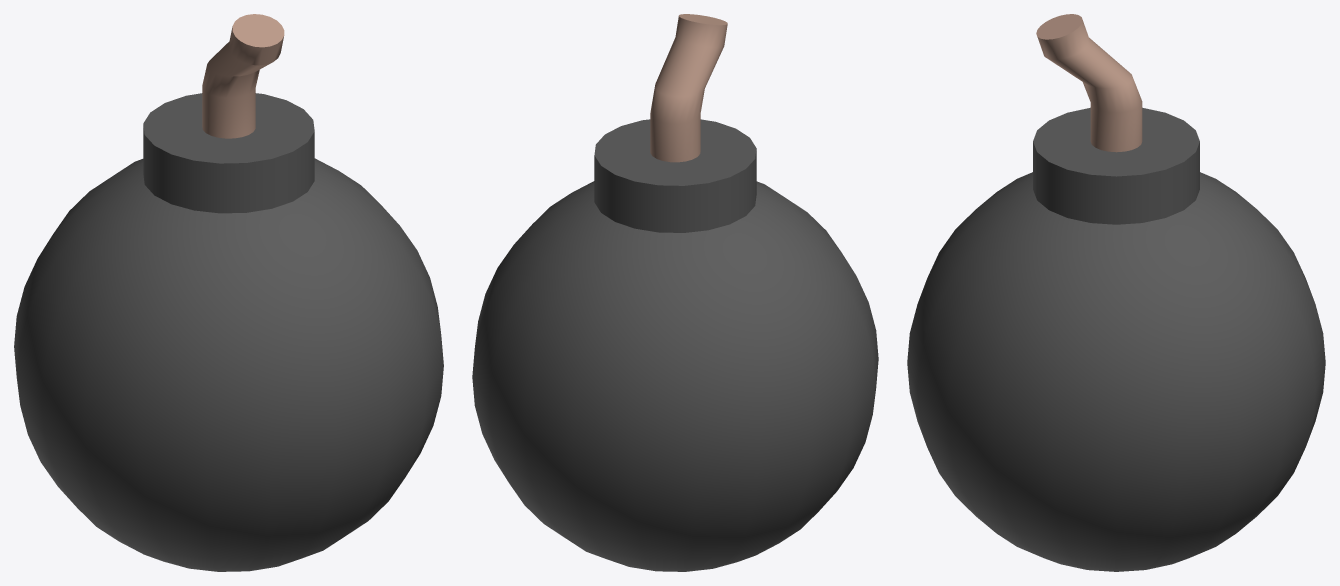
Rendered from Bomb.fbx.
The picture shows the model from 3 angles, left to right: view 1: azimuth 30°, elevation 25°; view 2: azimuth 150°, elevation 25°; view 3: azimuth 270°, elevation 25°; orthographic projection. The views are drawn at different scales.
Visible parts, largest first — view 1: pSphere1, pCylinder1, pCylinder2; view 2: pSphere1, pCylinder1, pCylinder2; view 3: pSphere1, pCylinder1, pCylinder2.
Boxes of the visible parts, <box> form: pSphere1: <box>14,158,443,571</box>; pCylinder1: <box>143,93,314,213</box>; pCylinder2: <box>202,14,284,138</box>; pSphere1: <box>472,181,878,571</box>; pCylinder1: <box>594,119,756,232</box>; pCylinder2: <box>650,14,727,162</box>; pSphere1: <box>907,172,1325,571</box>; pCylinder1: <box>1033,107,1199,224</box>; pCylinder2: <box>1036,14,1142,152</box>.
Bounding box in the file's own units: 2 × 2.81 × 2.
